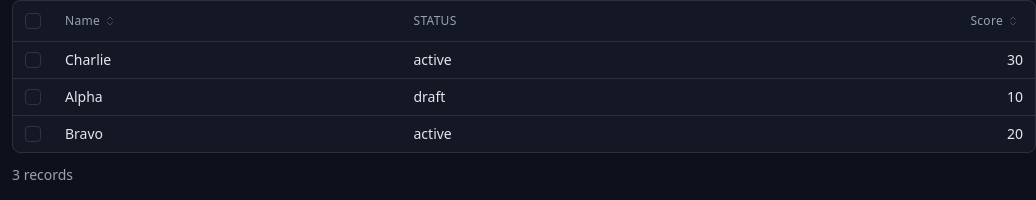
Scenario: DataTable selection › supports uncontrolled selection and shows the selected count
Click the checkbox named "select row" at (33, 60), box [25,52,41,68]
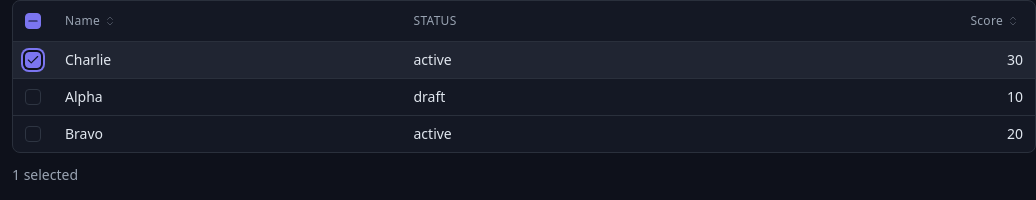
Expected: the text "1 selected" is shown, [12,164,78,184]
